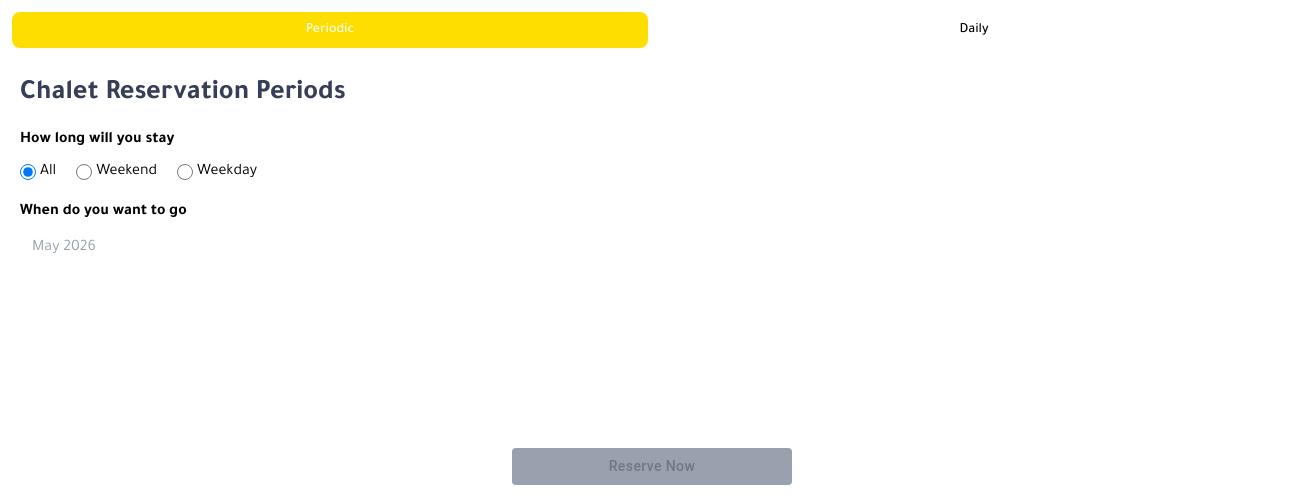
Test: reservation period view switcher › shows the switcher and both views when both period types exist
The image size is (1304, 502).
Expected: the button "Periodic" is shown, [12,12,648,48]
Expected: the heading "Chalet Reservation Periods" is shown, [20,80,346,108]
Click the button "Daily" at coordinates (974, 30), box [656,12,1292,48]
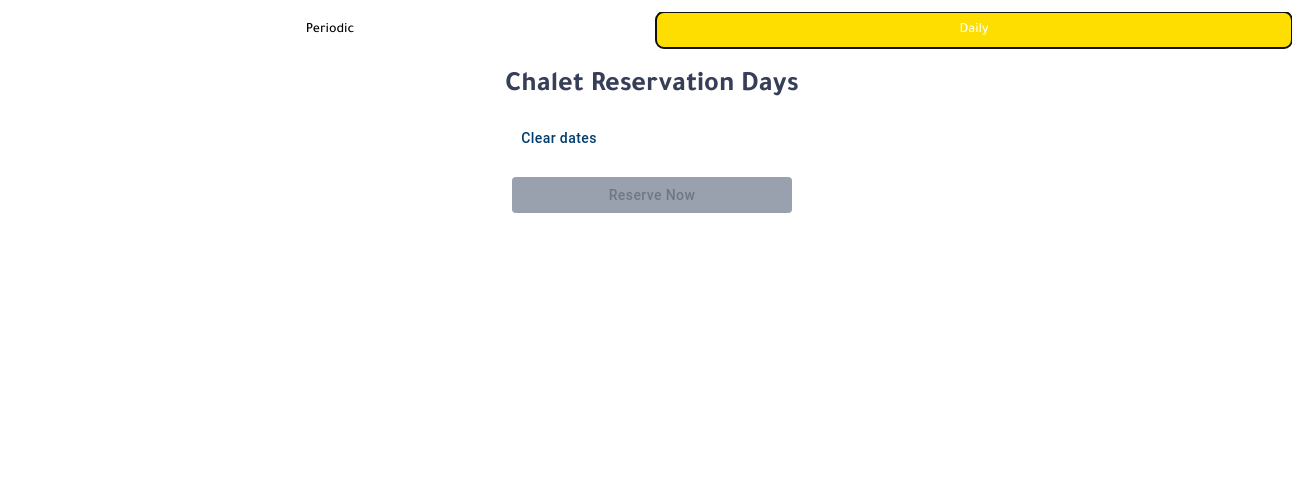
Expected: the heading "Chalet Reservation Days" is shown, [505,68,799,104]
Expected: the heading "Chalet Reservation Periods" is gone
